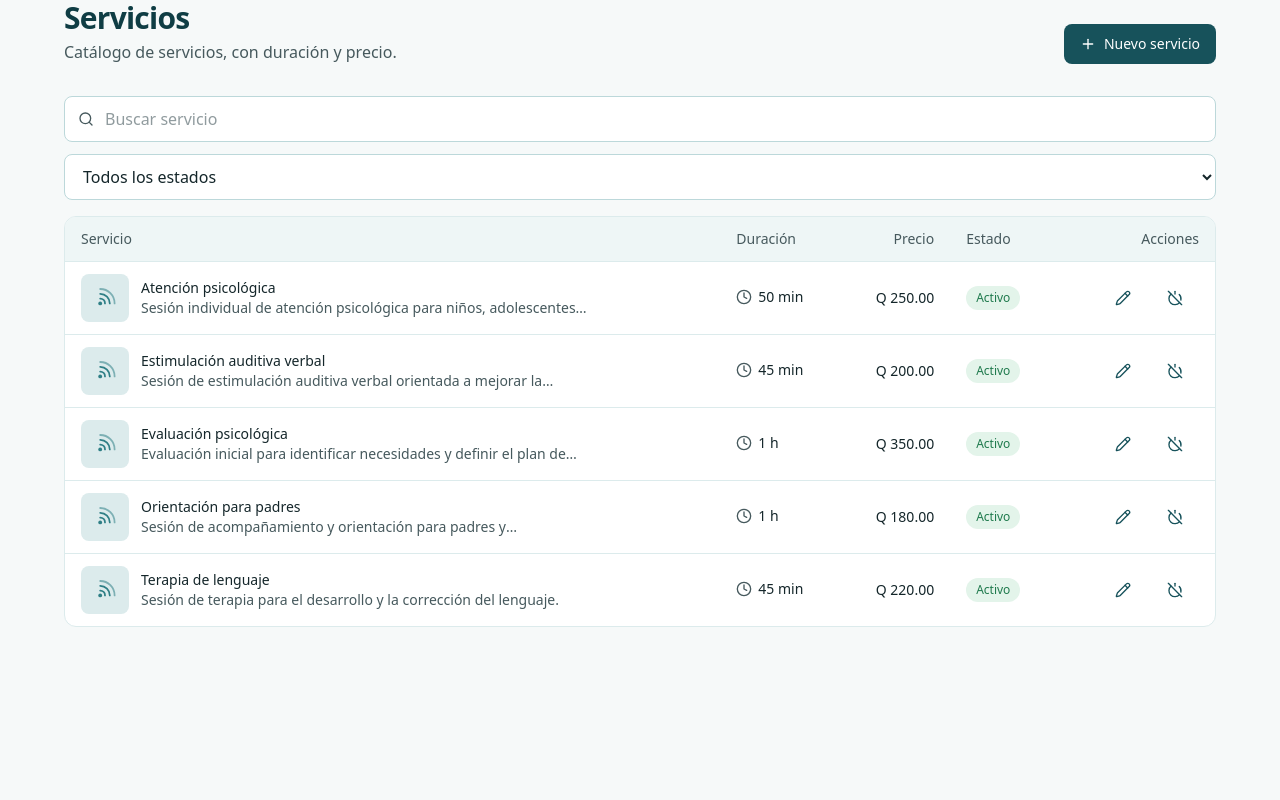
Test: Servicios (panel) › un error del servidor sobre el precio se muestra bajo el campo precio
Click the button named "Editar Atención psicológica": (1123, 298) x1=1099 y1=280 x2=1147 y2=316
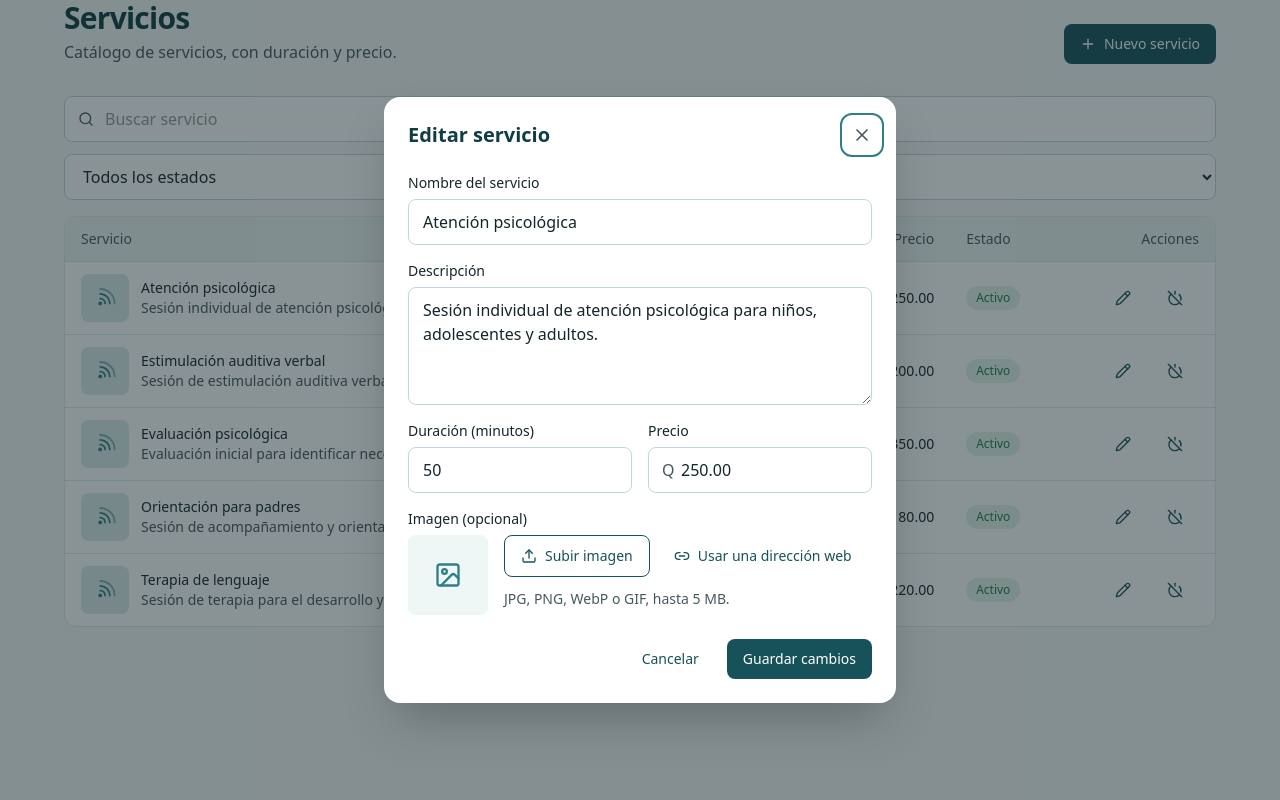
Click the button "Guardar cambios": (799, 659) x1=727 y1=639 x2=872 y2=679
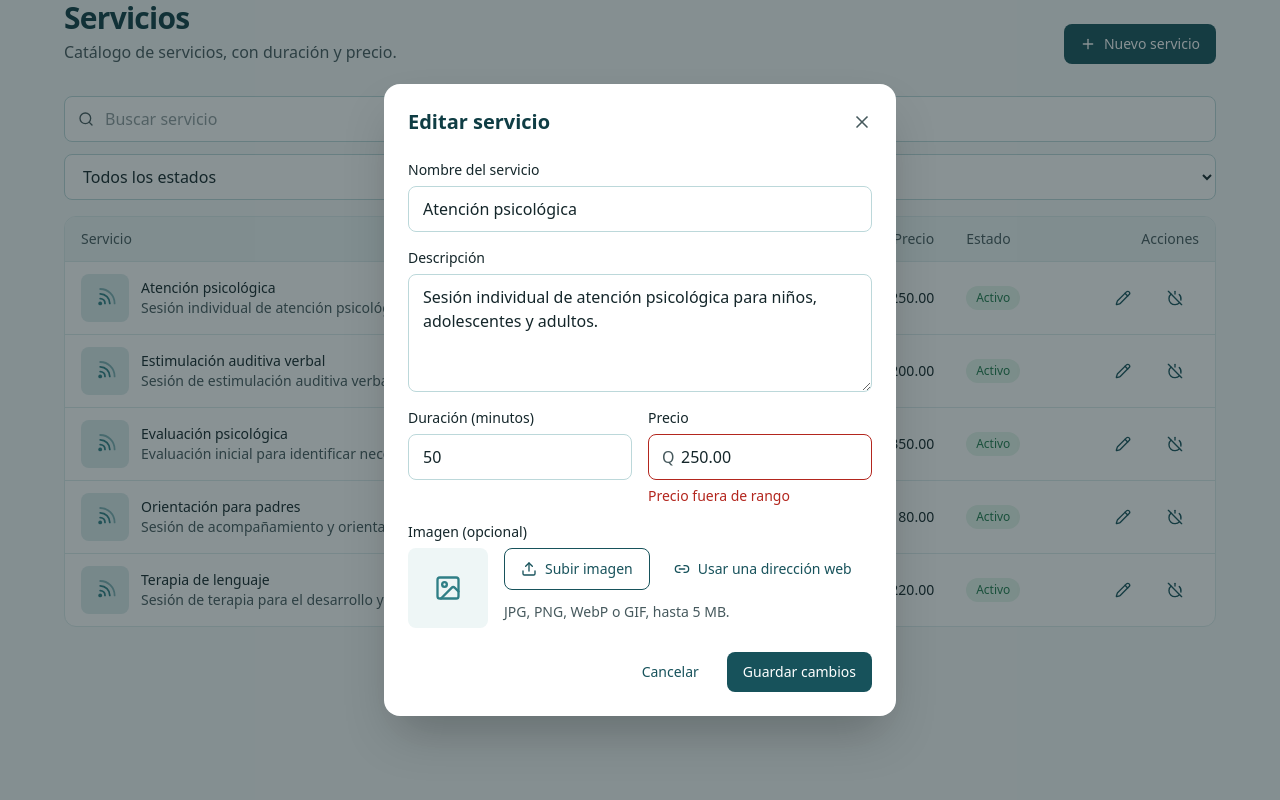
Expected: the text "Precio fuera de rango" is shown, x1=648 y1=486 x2=790 y2=505
